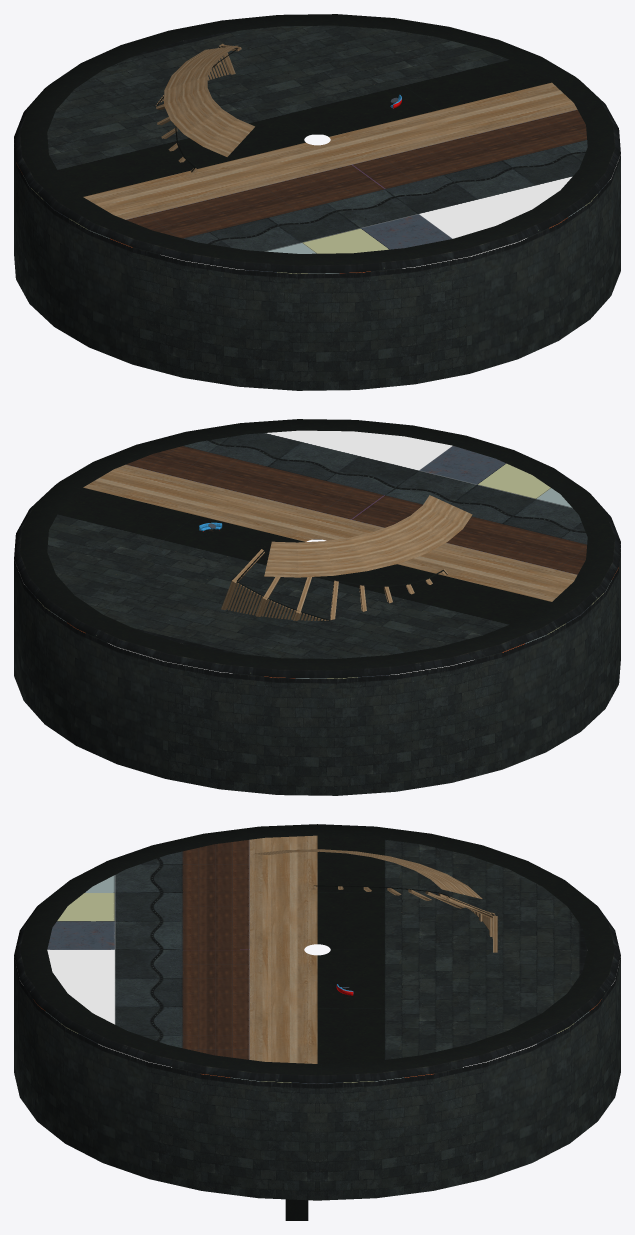
File: BeachFull.fbx
The picture shows the model from 3 angles, top to bottom: view 1: azimuth 30°, elevation 25°; view 2: azimuth 150°, elevation 25°; view 3: azimuth 270°, elevation 25°; orthographic projection.
Visible parts, largest first — view 1: bASEoUT, bASE, Main, BEachCoast_Box005_1; view 2: bASEoUT, bASE, Main, BEachCoast_Box005_1, BEachCoast_Box015_1; view 3: bASEoUT, bASE, Main, BEachCoast_Box005_1.
Part boxes in pixels (x1,y1,x2,y2): bASEoUT: (14, 14, 620, 390); bASE: (47, 25, 587, 253); Main: (164, 45, 254, 156); BEachCoast_Box005_1: (156, 43, 241, 172); bASEoUT: (14, 419, 620, 795); bASE: (47, 430, 587, 658); Main: (264, 495, 472, 577); BEachCoast_Box005_1: (221, 549, 447, 620); BEachCoast_Box015_1: (227, 583, 328, 620); bASEoUT: (14, 824, 620, 1200); bASE: (47, 835, 587, 1063); Main: (253, 849, 482, 898); BEachCoast_Box005_1: (311, 886, 497, 952).
Bounding box in the file's own units: 110 × 48.53 × 110.
